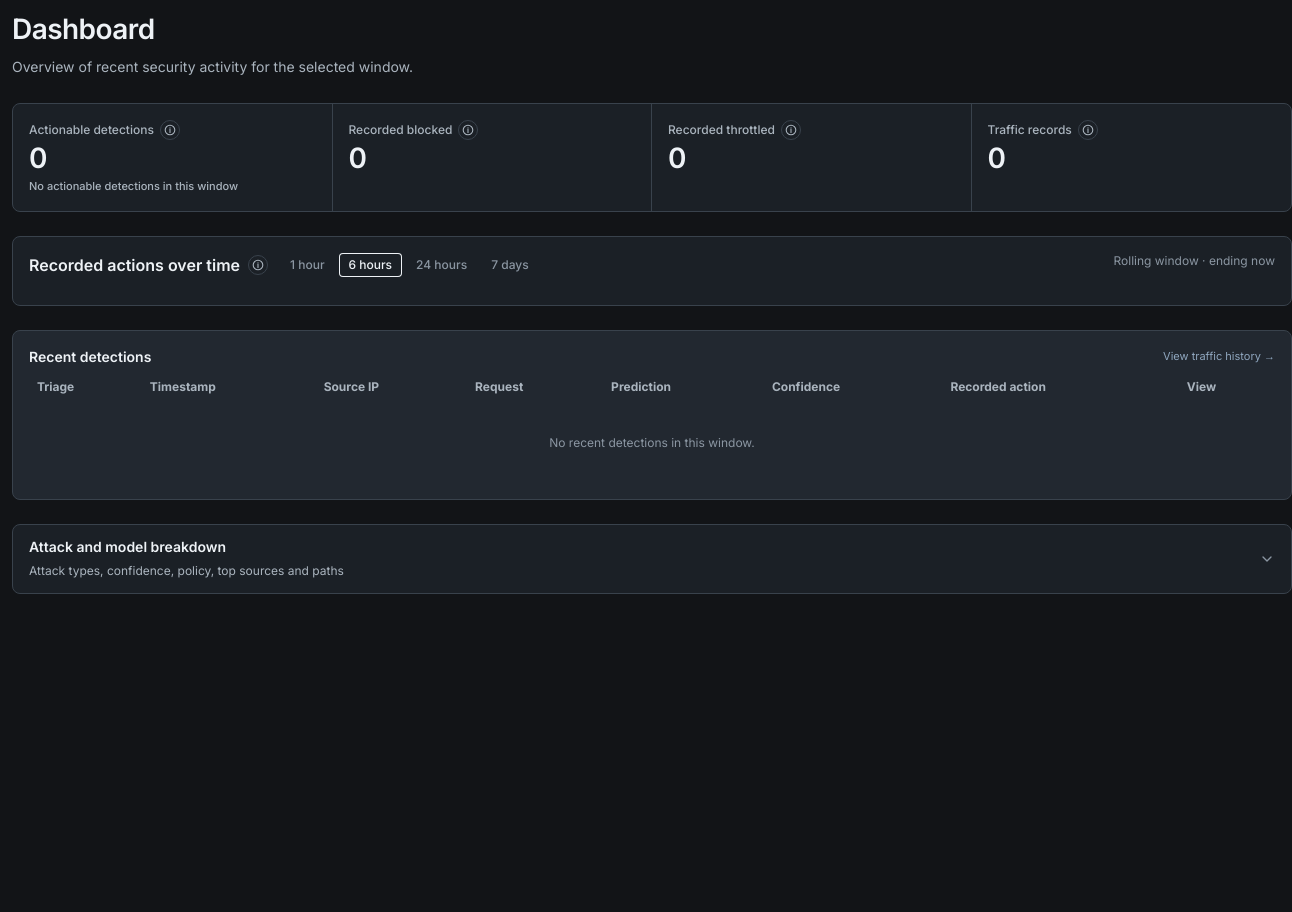
DashboardPage metric definitions › keeps an empty-state explanation in the detailed disclosure when the window has no activity
Click the heading "Attack and model breakdown": (128, 546) [29,538,226,554]
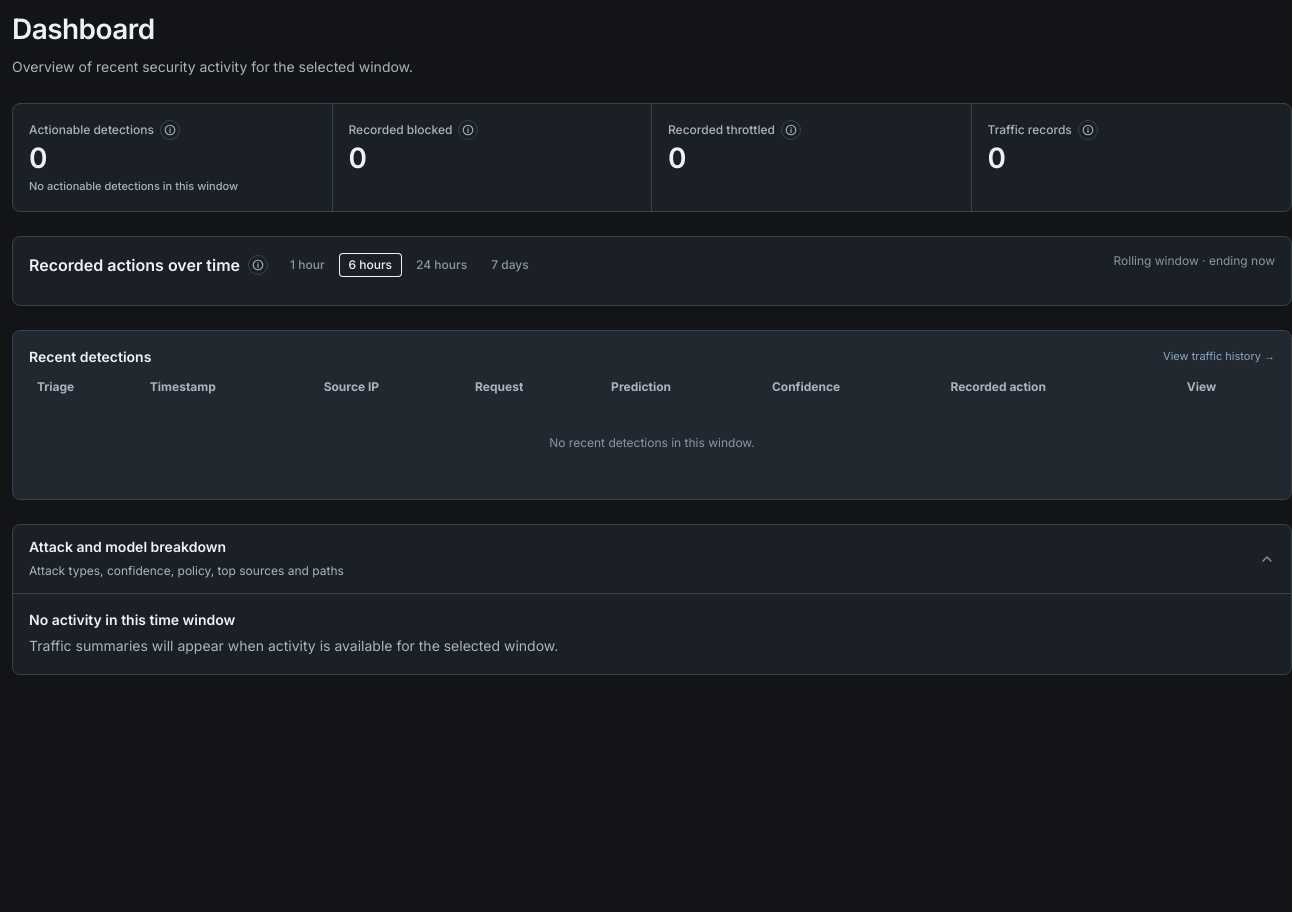
Expected: the heading "No activity in this time window" is shown, [29,610,235,628]
Expected: the text "Traffic summaries will appear when activity is available" is shown, [29,636,558,654]
